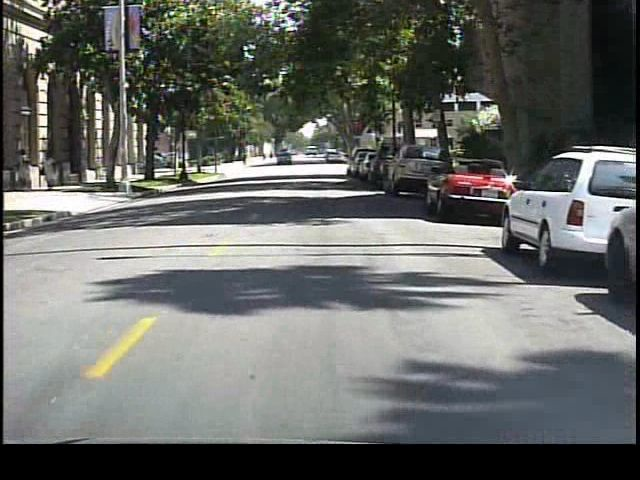person: (37, 152, 63, 195), (17, 147, 37, 193)
